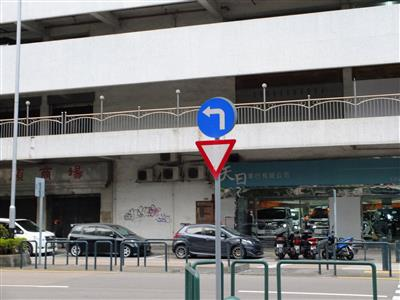leftTurnOnly: (195, 94, 237, 138)
yield: (192, 137, 239, 180)
